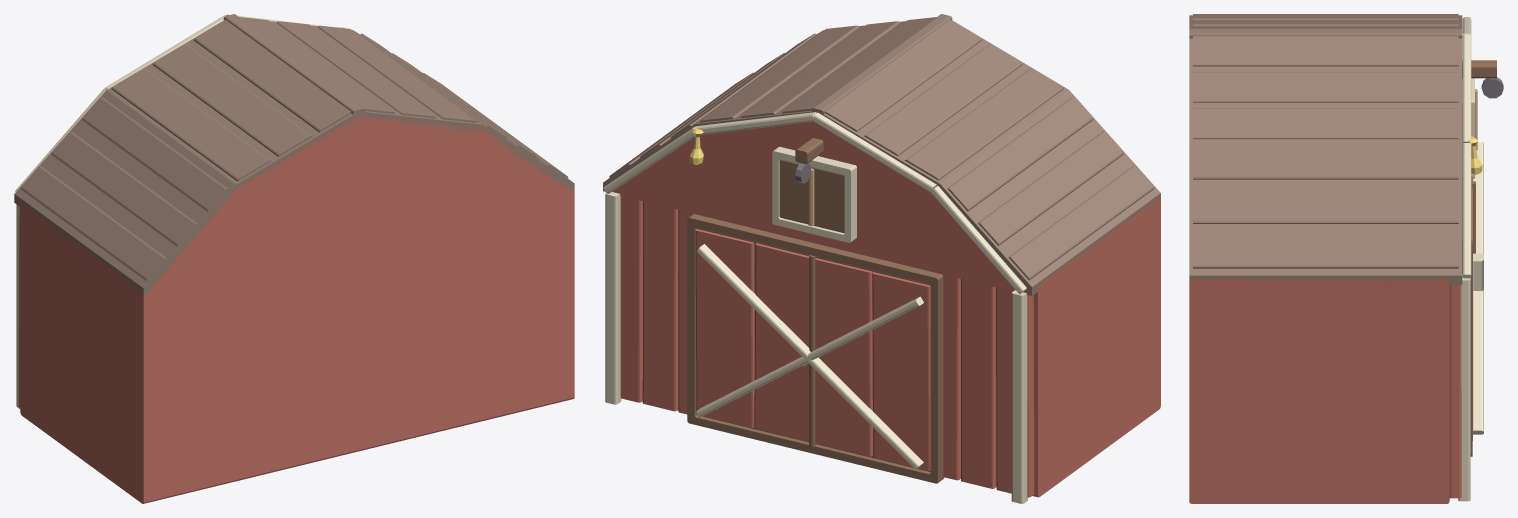
File: Kit_Facade_Barn.fbx
The picture shows the model from 3 angles, left to right: view 1: azimuth 30°, elevation 25°; view 2: azimuth 150°, elevation 25°; view 3: azimuth 270°, elevation 25°; orthographic projection. The views are drawn at different scales.
Parts seen in each view (by area): view 1: Kit_Facade_Barn; view 2: Kit_Facade_Barn; view 3: Kit_Facade_Barn.
Part boxes in pixels (left/top/right/bottom): Kit_Facade_Barn: left=14, top=14, right=574, bottom=503; Kit_Facade_Barn: left=603, top=14, right=1160, bottom=503; Kit_Facade_Barn: left=1189, top=14, right=1503, bottom=503.
Bounding box in the file's own units: 5 × 3.8 × 3.
